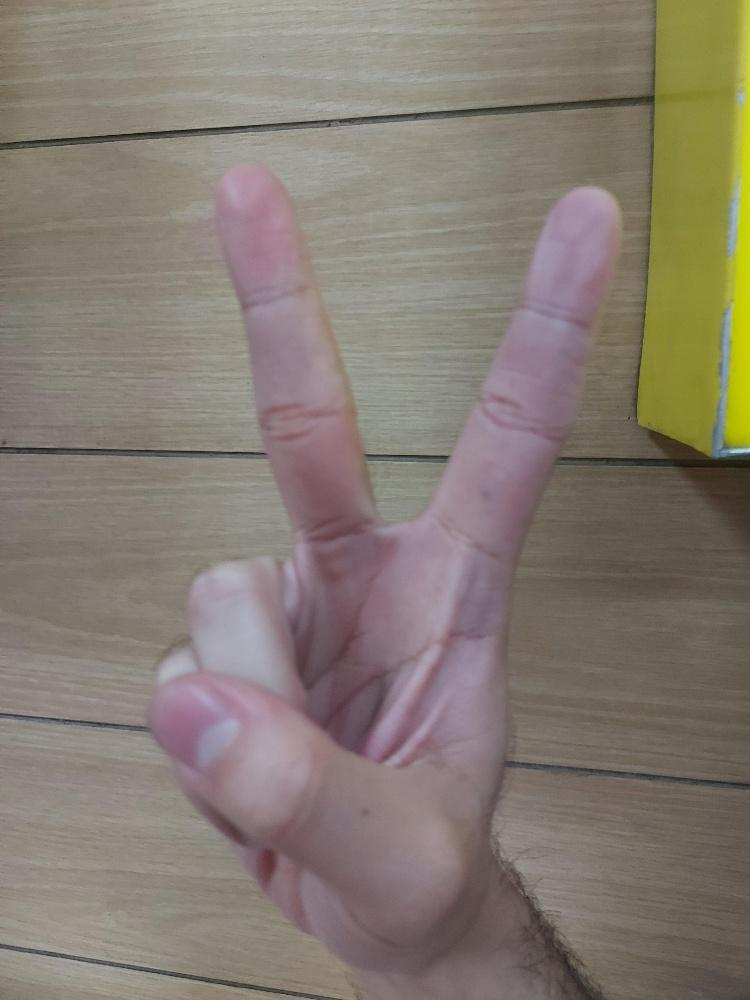v: (148, 161, 626, 965)
